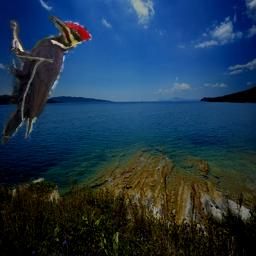Woodpecker: (1, 15, 92, 145)
